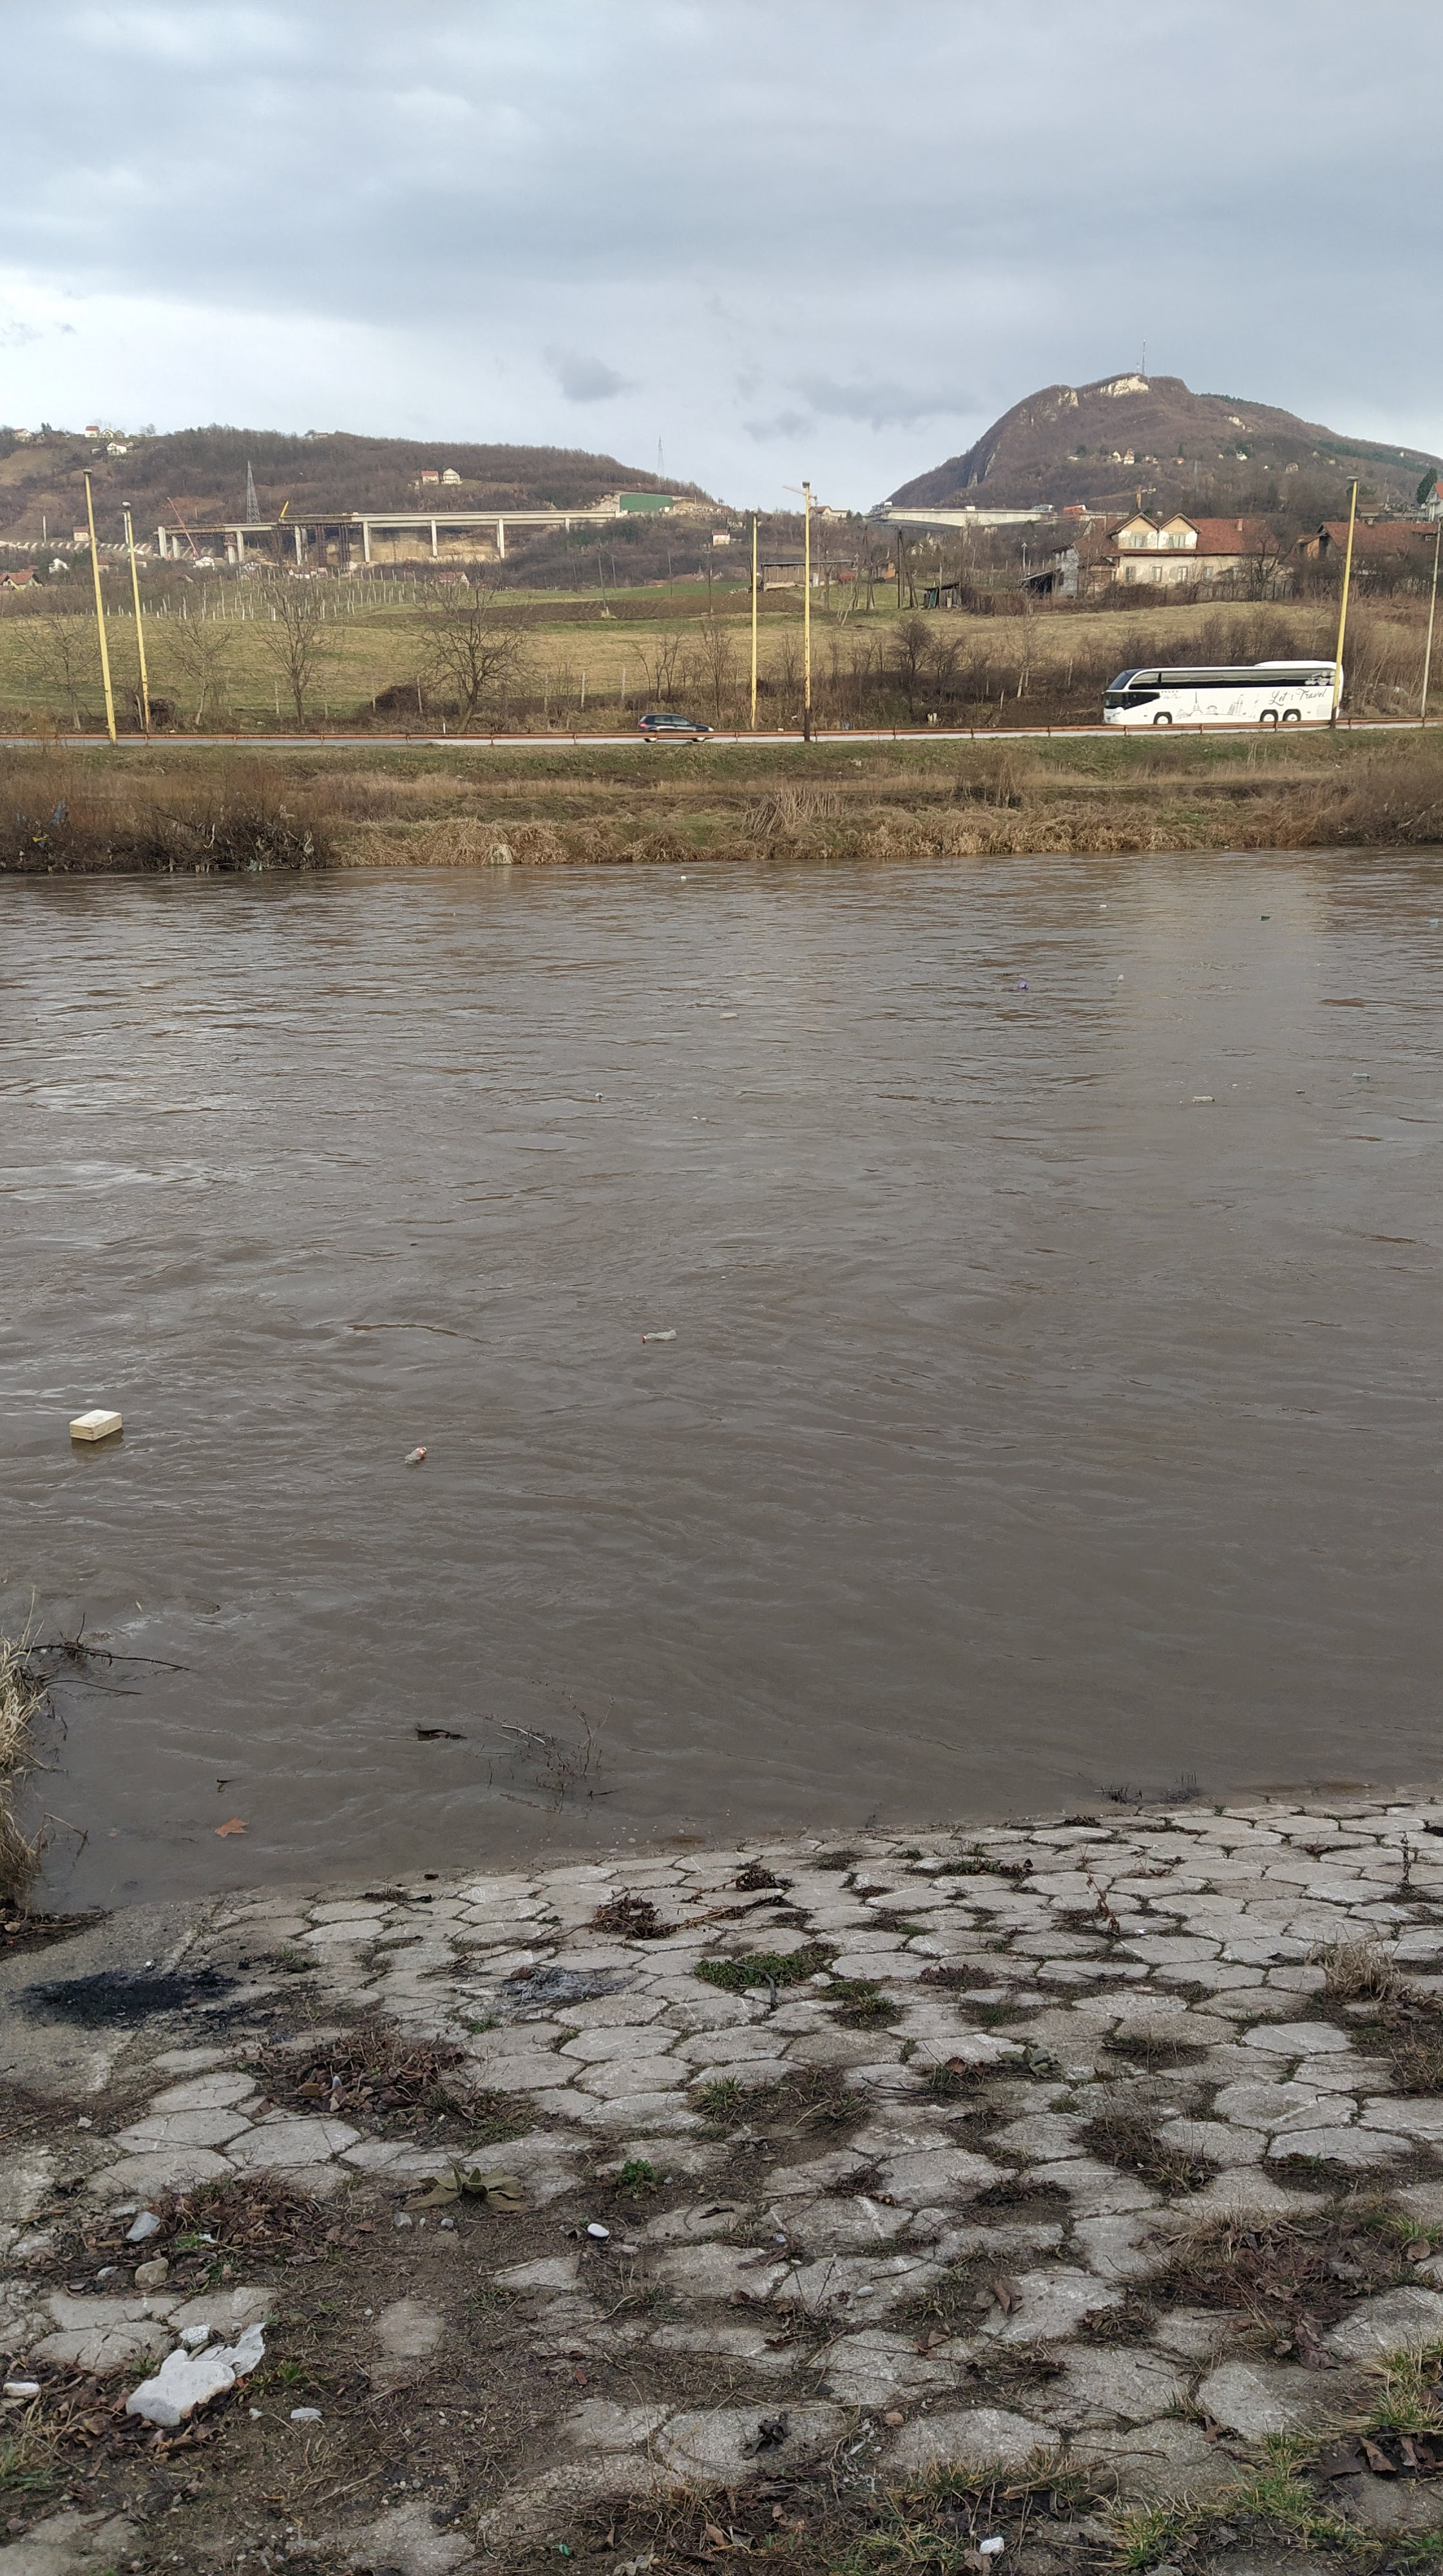Plastic Bottle: (641, 1329, 676, 1341), (404, 1445, 427, 1463), (1193, 1097, 1215, 1102), (721, 1012, 738, 1017), (1353, 1072, 1370, 1077), (1117, 975, 1124, 982), (1020, 980, 1027, 987), (1261, 915, 1268, 920), (1429, 918, 1436, 924), (1100, 902, 1107, 906), (682, 876, 687, 879)
